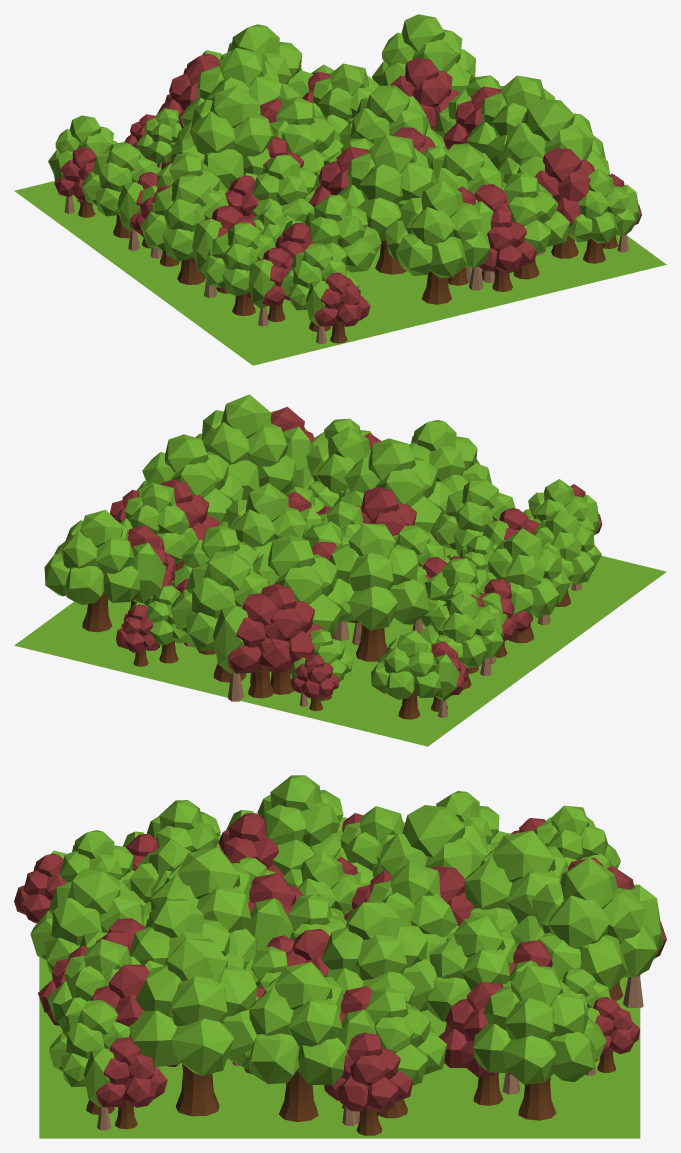
File: Trees.fbx
3 renders of one model, top to bottom at view 1: azimuth 30°, elevation 25°; view 2: azimuth 150°, elevation 25°; view 3: azimuth 270°, elevation 25°, orthographic. The views are drawn at different scales.
Visible parts, largest first — view 1: Tree_D; view 2: Tree_D; view 3: Tree_D.
Boxes of the visible parts, bbox=[...] form: Tree_D: bbox=[14, 14, 666, 365]; Tree_D: bbox=[14, 394, 666, 746]; Tree_D: bbox=[14, 775, 666, 1138].
Size of the model in its own units: 2075 by 619 by 2173.
